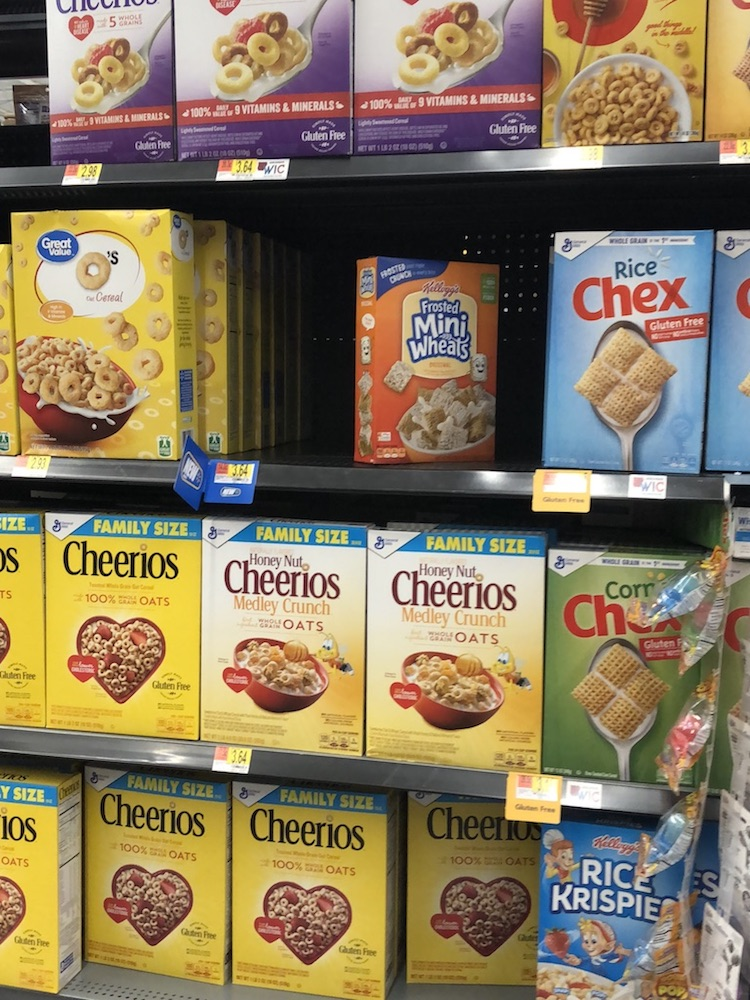Frosted Mini Original -9295869: (358, 251, 497, 469)
